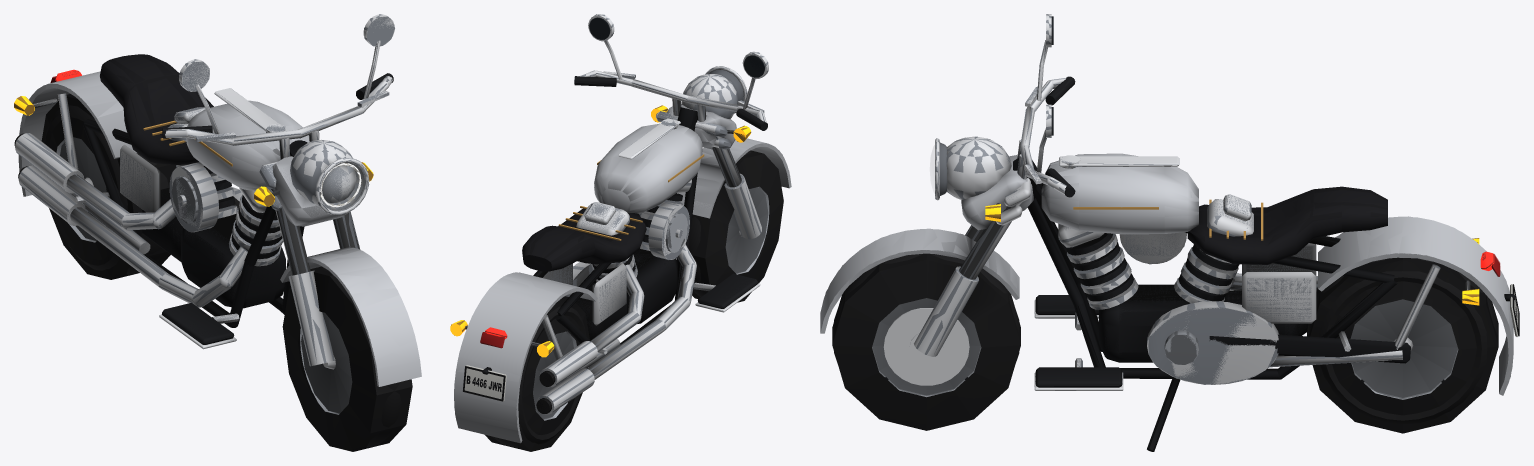
File: jawara.glb
3 views of the same model, side by side, from view 1: azimuth 30°, elevation 25°; view 2: azimuth 150°, elevation 25°; view 3: azimuth 270°, elevation 25° (orthographic). The views are drawn at different scales.
Parts seen in each view (by area): view 1: lod1_rest, body, steer, lod1_paint, wheel_r, wheel_f; view 2: body, lod1_rest, steer, lod1_paint, wheel_r, wheel_f, lod1_glass; view 3: lod1_rest, body, steer, lod1_paint, wheel_r, wheel_f.
Part boxes in pixels (bbox=[...]): lod1_rest: bbox=[14, 14, 412, 451]; body: bbox=[14, 54, 309, 349]; steer: bbox=[162, 14, 421, 386]; lod1_paint: bbox=[19, 71, 419, 386]; wheel_r: bbox=[44, 105, 168, 274]; wheel_f: bbox=[298, 267, 401, 447]; body: bbox=[450, 107, 760, 443]; lod1_rest: bbox=[451, 14, 783, 451]; steer: bbox=[574, 14, 790, 239]; lod1_paint: bbox=[454, 105, 791, 442]; wheel_r: bbox=[492, 306, 586, 447]; wheel_f: bbox=[688, 151, 770, 297]; lod1_glass: bbox=[589, 17, 764, 77]; lod1_rest: bbox=[832, 14, 1511, 448]; body: bbox=[1013, 153, 1519, 451]; steer: bbox=[820, 14, 1075, 356]; lod1_paint: bbox=[820, 154, 1513, 394]; wheel_r: bbox=[1307, 258, 1498, 423]; wheel_f: bbox=[832, 254, 1020, 397].
Size of the model in its own units: 0.9349 by 1.39 by 2.44.
